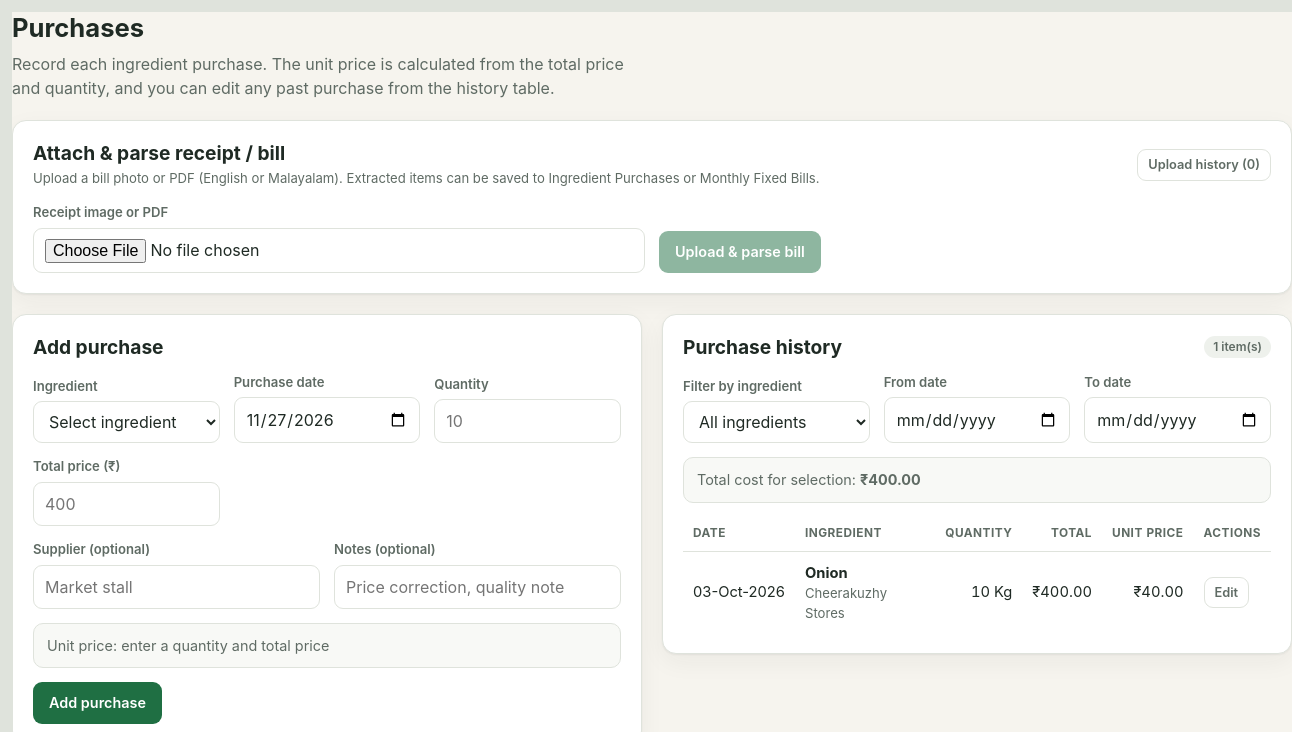
it: Purchases screen › edits an existing purchase from purchase history
Later steps or results of the test are not shown.
Check: the text "03-Oct-2026" is shown, box [683,551,795,633]
Step 1. Click the button "Edit" → click(1226, 592), box [1204,577,1249,608]
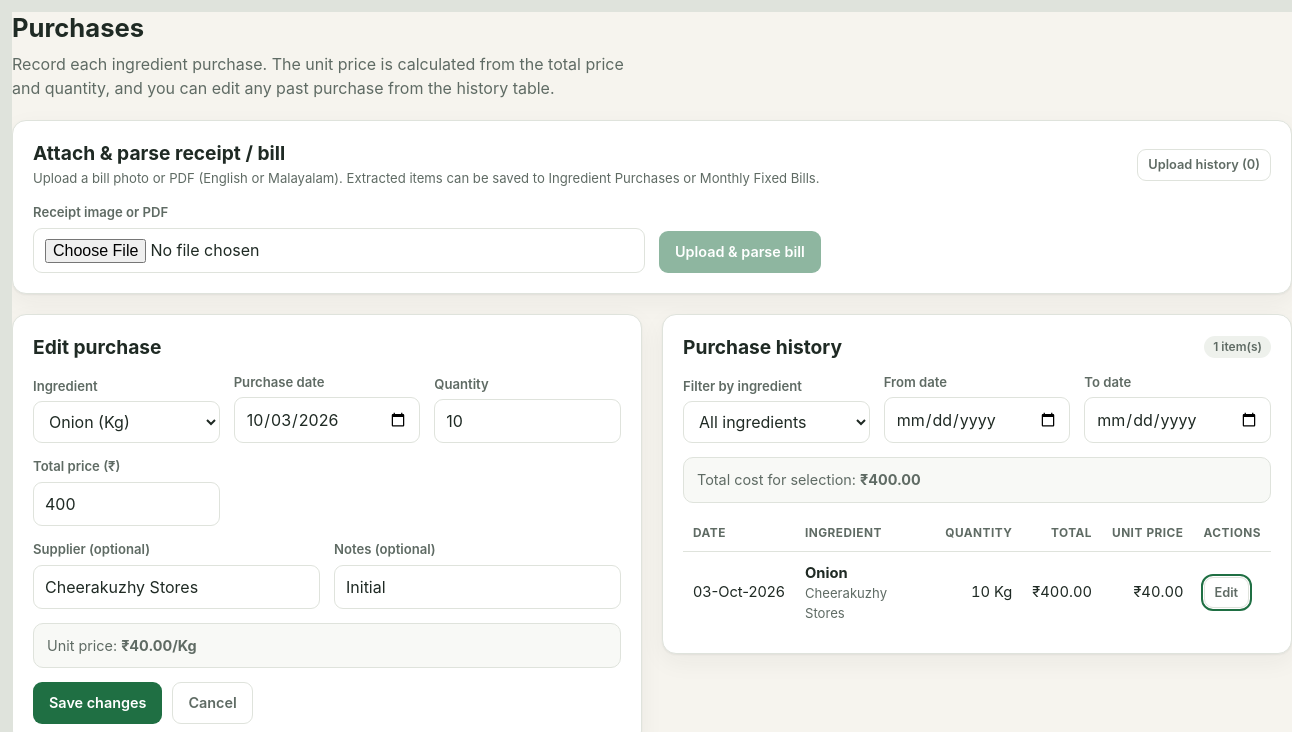
Check: the heading "Edit purchase" is shown, box [33,335,162,359]
